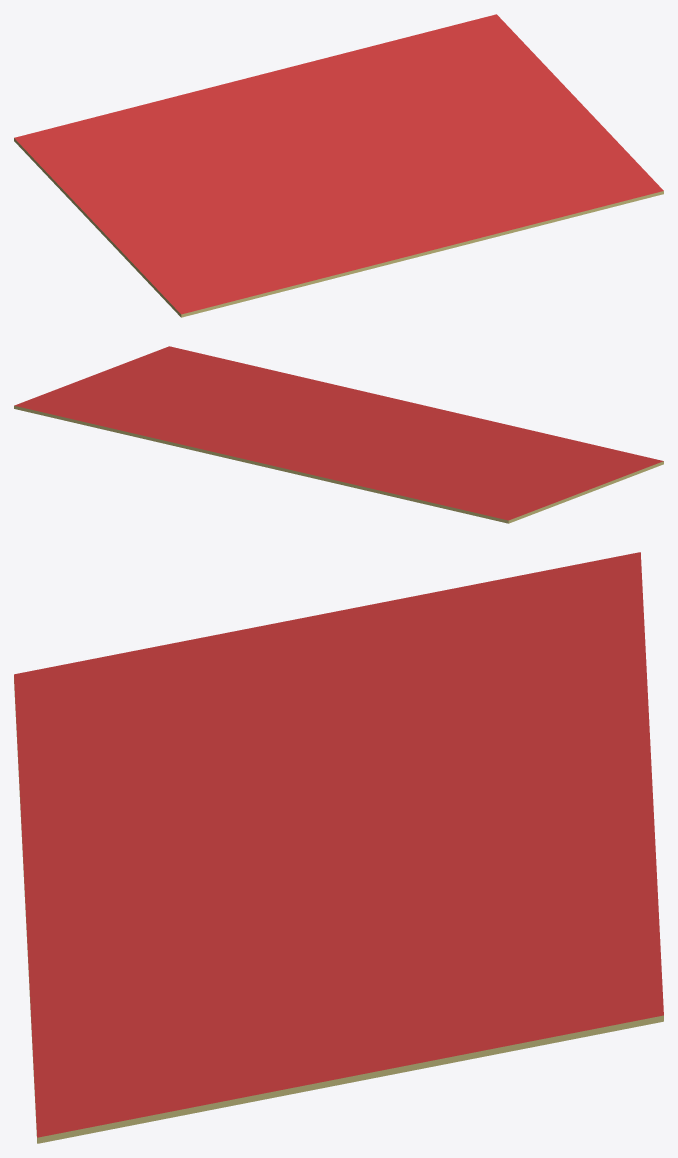
3 views of the same model, one above another, from view 1: azimuth 30°, elevation 25°; view 2: azimuth 150°, elevation 25°; view 3: azimuth 270°, elevation 25° (orthographic). The views are drawn at different scales.
Size of the model in its own units: 16.2 by 9.49 by 1.98.
